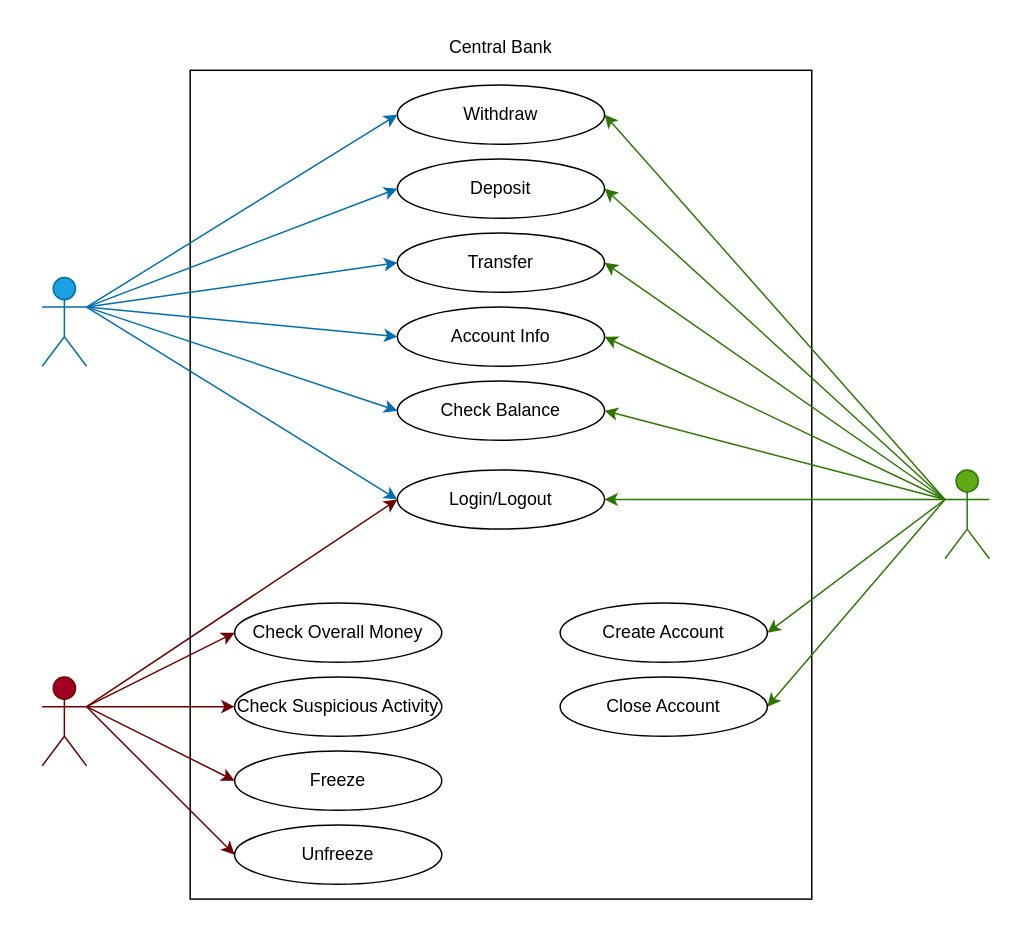
The diagram is 1015 pixels wide and 925 high, and some of its shapes have lost their labels. Each missing label, with the box of its shape:
Admin: (41, 676, 87, 766)
Customer: (41, 276, 87, 366)
Teller: (944, 468, 989, 559)
